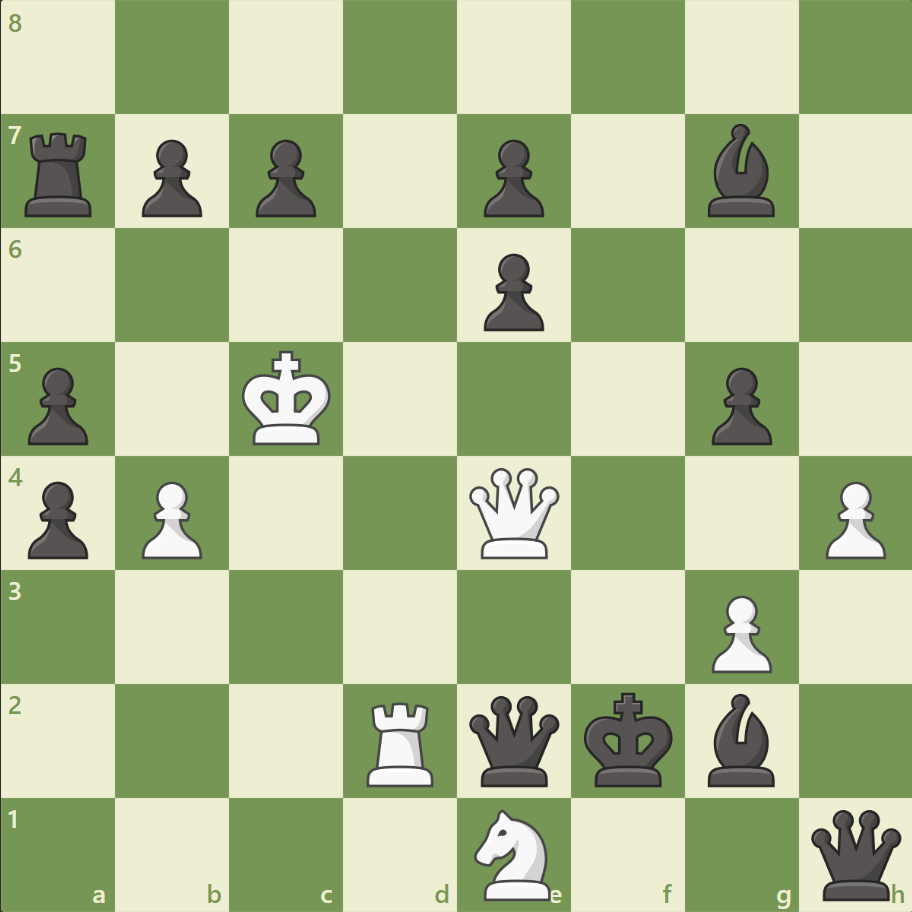K: (238, 344, 338, 452)
N: (465, 802, 562, 904)
P: (133, 473, 208, 564), (701, 586, 776, 677), (815, 473, 889, 564)
Q: (464, 463, 563, 562)
R: (360, 693, 442, 790)
b: (698, 687, 782, 790), (698, 120, 782, 222)
k: (579, 685, 679, 793)
p: (133, 132, 208, 223), (247, 132, 322, 223), (474, 132, 549, 223), (474, 246, 549, 337), (20, 359, 95, 450), (701, 359, 776, 450), (20, 473, 95, 564)
q: (464, 690, 563, 789), (805, 804, 904, 903)
r: (19, 125, 102, 222)
